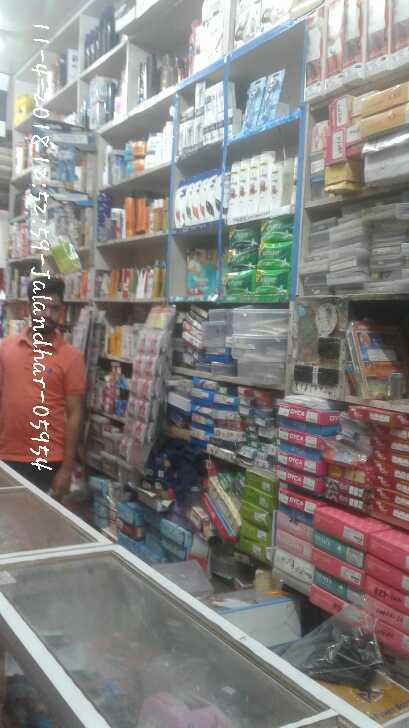venus: (261, 69, 286, 122), (245, 82, 261, 122)
